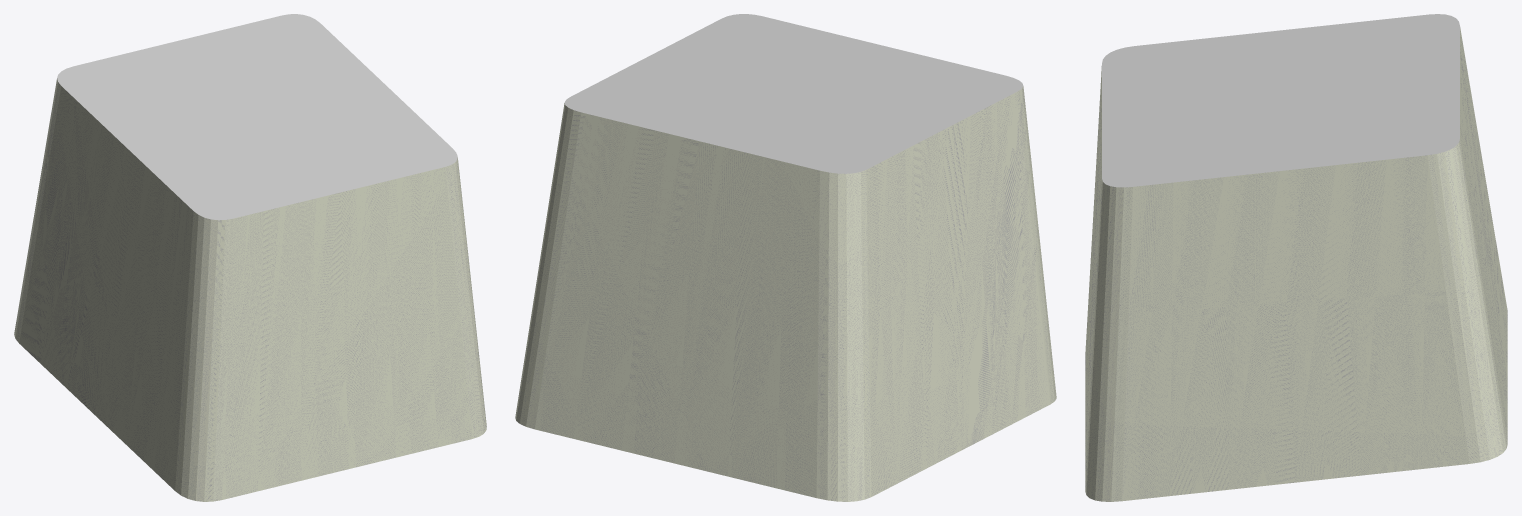
The model's file is original-59.obj.
3 views of the same model, side by side, from view 1: azimuth 30°, elevation 25°; view 2: azimuth 150°, elevation 25°; view 3: azimuth 270°, elevation 25° (orthographic). The views are drawn at different scales.
Visible parts, largest first — view 1: mesh59/mesh59-geometry#mesh59-geometry; view 2: mesh59/mesh59-geometry#mesh59-geometry; view 3: mesh59/mesh59-geometry#mesh59-geometry.
Boxes of the visible parts, bbox=[...] form: mesh59/mesh59-geometry#mesh59-geometry: bbox=[14, 14, 486, 501]; mesh59/mesh59-geometry#mesh59-geometry: bbox=[515, 14, 1056, 501]; mesh59/mesh59-geometry#mesh59-geometry: bbox=[1085, 14, 1507, 501].
Bounding box in the file's own units: 0.0633 × 0.0606 × 0.0681.
